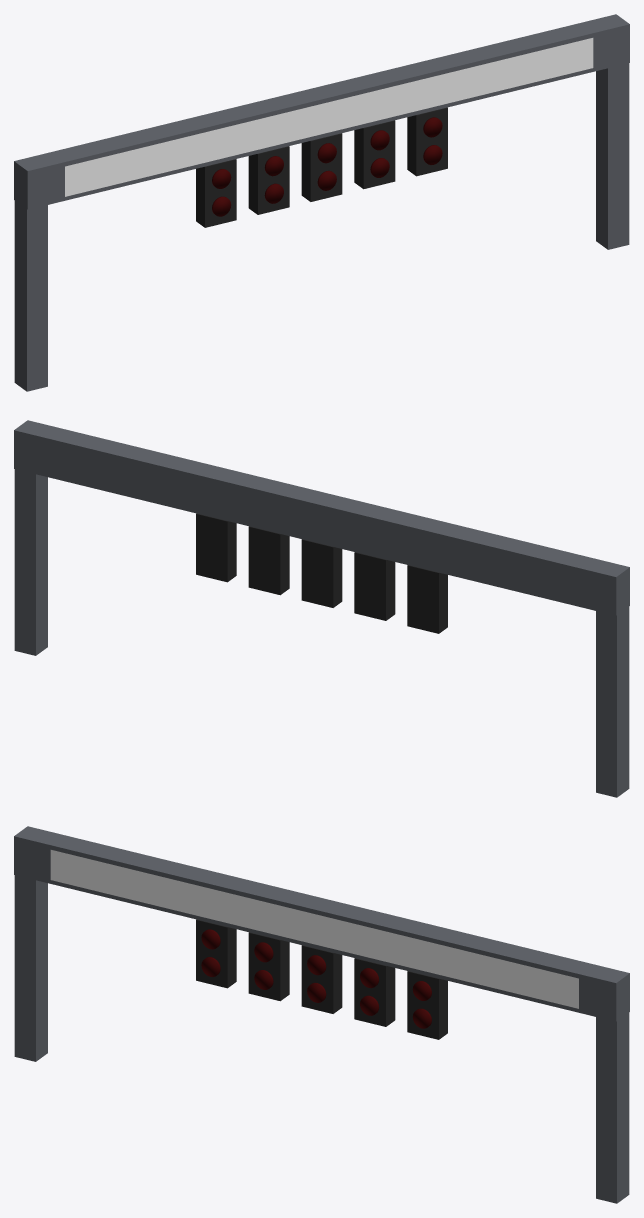
The model's file is start.glb.
3 views of the same model, one above another, from view 1: azimuth 30°, elevation 25°; view 2: azimuth 150°, elevation 25°; view 3: azimuth 330°, elevation 25° (orthographic).
Visible parts, largest first — view 1: Box.049, Banner.002, Box.047, Box.048, Box.053, Box.052, Box.051, Box.050, Box.054; view 2: Box.049, Box.047, Box.048, Box.053, Box.052, Box.051, Box.050, Box.054; view 3: Box.049, Banner.002, Box.048, Box.047, Box.051, Box.052, Box.053, Box.050, Box.054.
Part boxes in pixels (box(x1,y1,x2,y2)): Box.049: box(14, 14, 629, 209); Banner.002: box(65, 38, 593, 196); Box.047: box(14, 176, 47, 391); Box.048: box(596, 63, 629, 249); Box.053: box(354, 120, 395, 189); Box.052: box(301, 133, 342, 201); Box.051: box(248, 146, 289, 214); Box.050: box(196, 159, 236, 227); Box.054: box(407, 107, 447, 176); Box.049: box(14, 420, 629, 615); Box.047: box(596, 606, 629, 797); Box.048: box(14, 469, 47, 655); Box.053: box(248, 526, 289, 595); Box.052: box(301, 539, 342, 607); Box.051: box(354, 552, 395, 620); Box.050: box(407, 565, 447, 633); Box.054: box(196, 513, 236, 582); Box.049: box(14, 826, 629, 1021); Banner.002: box(50, 850, 578, 1008); Box.048: box(596, 1012, 629, 1203); Box.047: box(14, 875, 47, 1061); Box.051: box(248, 932, 289, 1001); Box.052: box(301, 945, 342, 1013); Box.053: box(354, 958, 395, 1026); Box.050: box(196, 919, 236, 988); Box.054: box(407, 971, 447, 1039).
Size of the model in its own units: 22.8 by 8 by 0.92.
